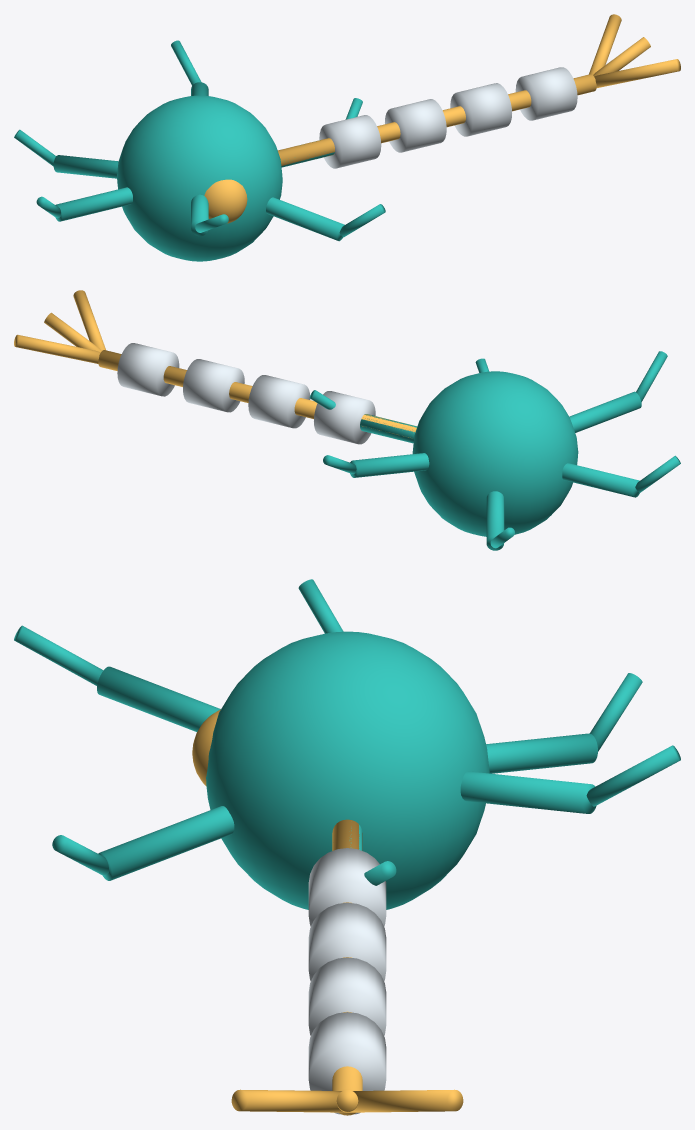
The model's file is neuron-quality.glb.
3 views of the same model, one above another, from view 1: azimuth 30°, elevation 25°; view 2: azimuth 150°, elevation 25°; view 3: azimuth 270°, elevation 25° (orthographic). The views are drawn at different scales.
Parts seen in each view (by area): view 1: Cell body; view 2: Cell body; view 3: Cell body.
Boxes of the visible parts, left/top/right/bottom form: Cell body: left=14, top=14, right=680, bottom=261; Cell body: left=14, top=290, right=680, bottom=550; Cell body: left=14, top=579, right=680, bottom=1115.
Size of the model in its own units: 2.87 by 0.66 by 1.55.
